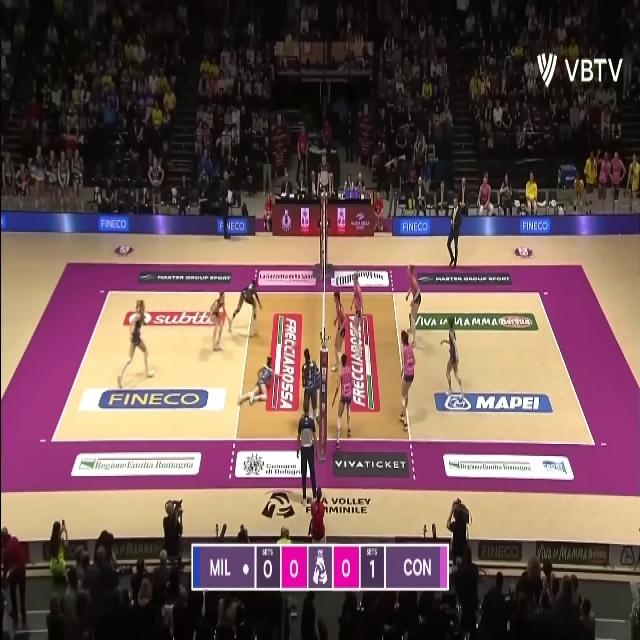volleyball court: (45, 291, 599, 444)
